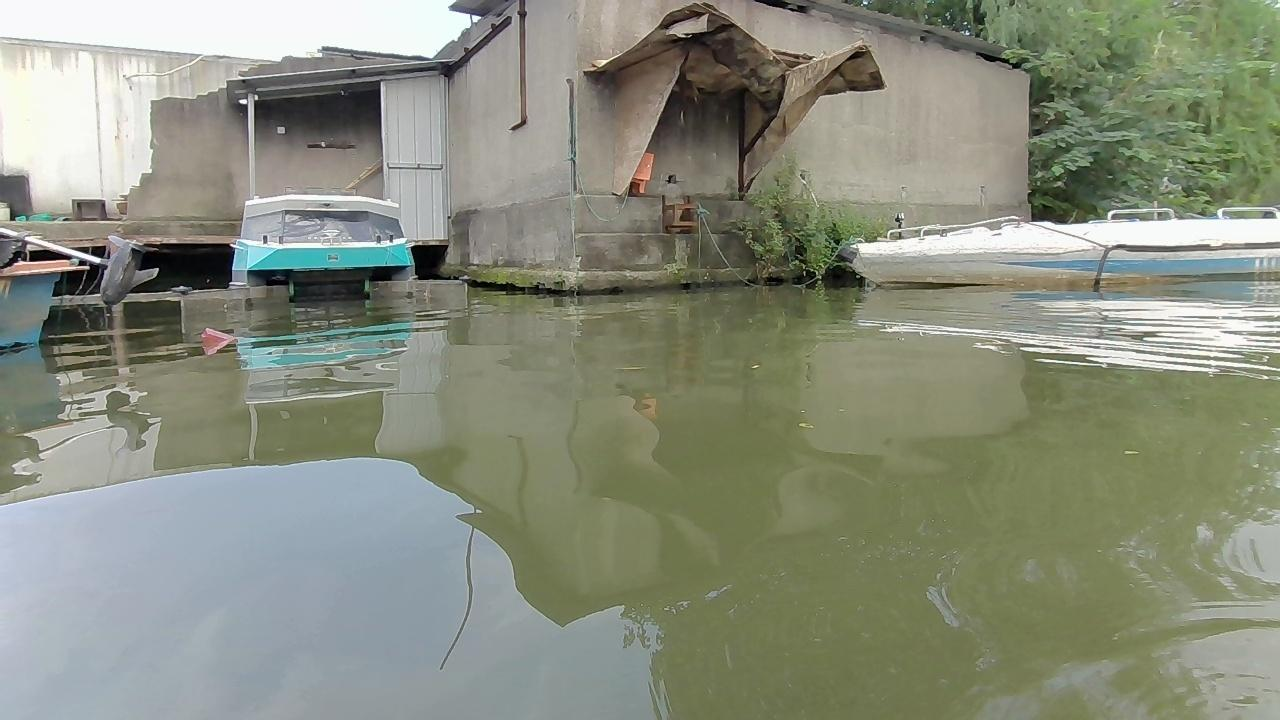bottle: (197, 327, 241, 352)
